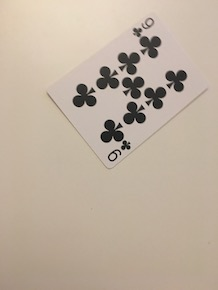NineOfClubs: (44, 11, 211, 172)
